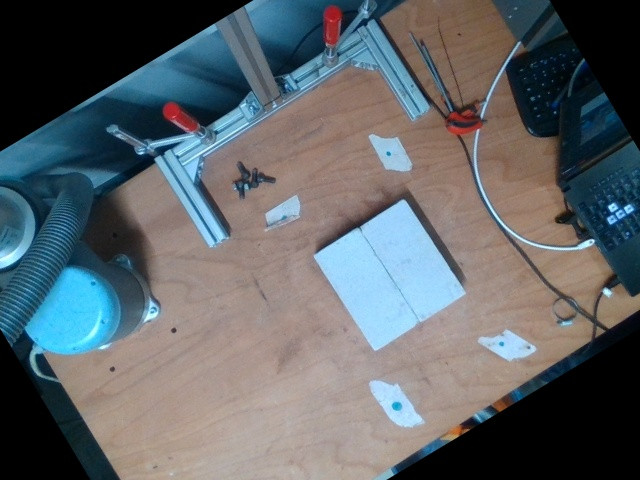brick: (360, 199, 466, 321), (314, 228, 419, 350)
